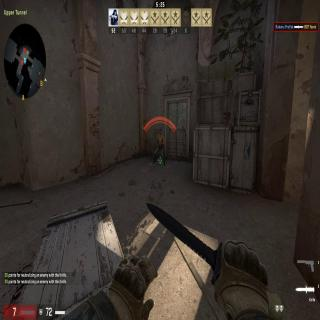T-Body: (154, 128, 166, 166)
T-Head: (159, 128, 162, 134)
